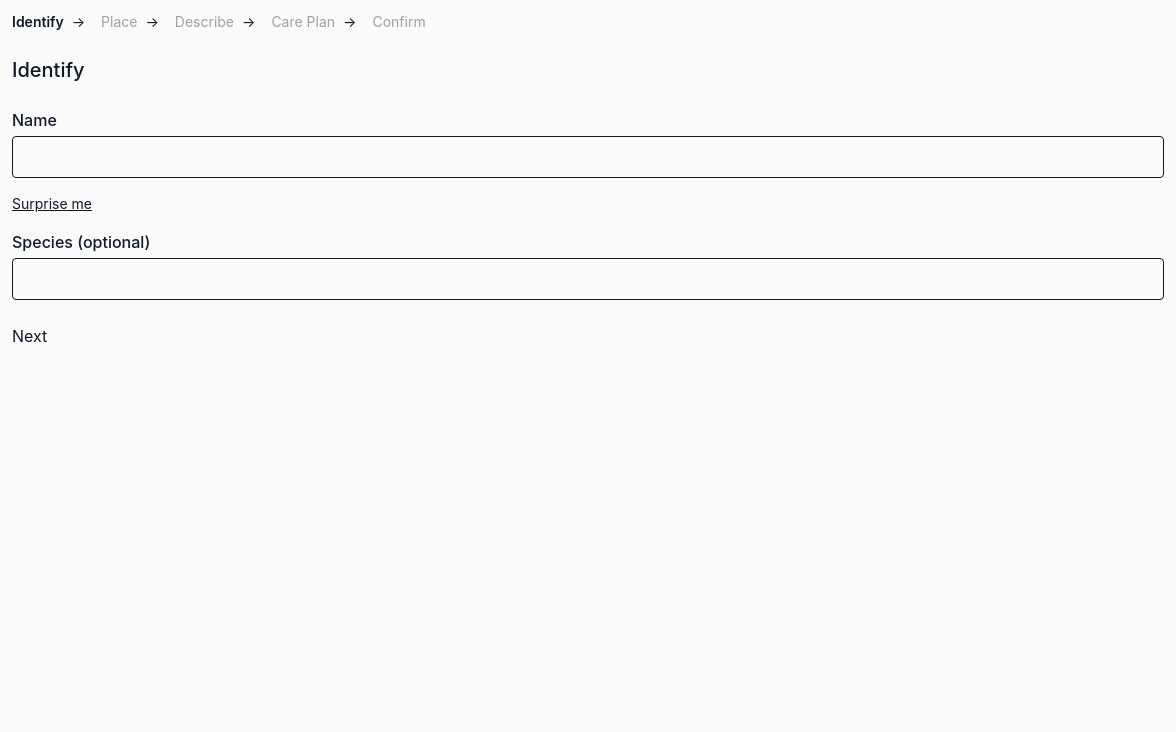
Test: AddPlantForm › shows errors for required fields
Step 1. Click the button "Next" → [30, 336], box [12,324,47,348]
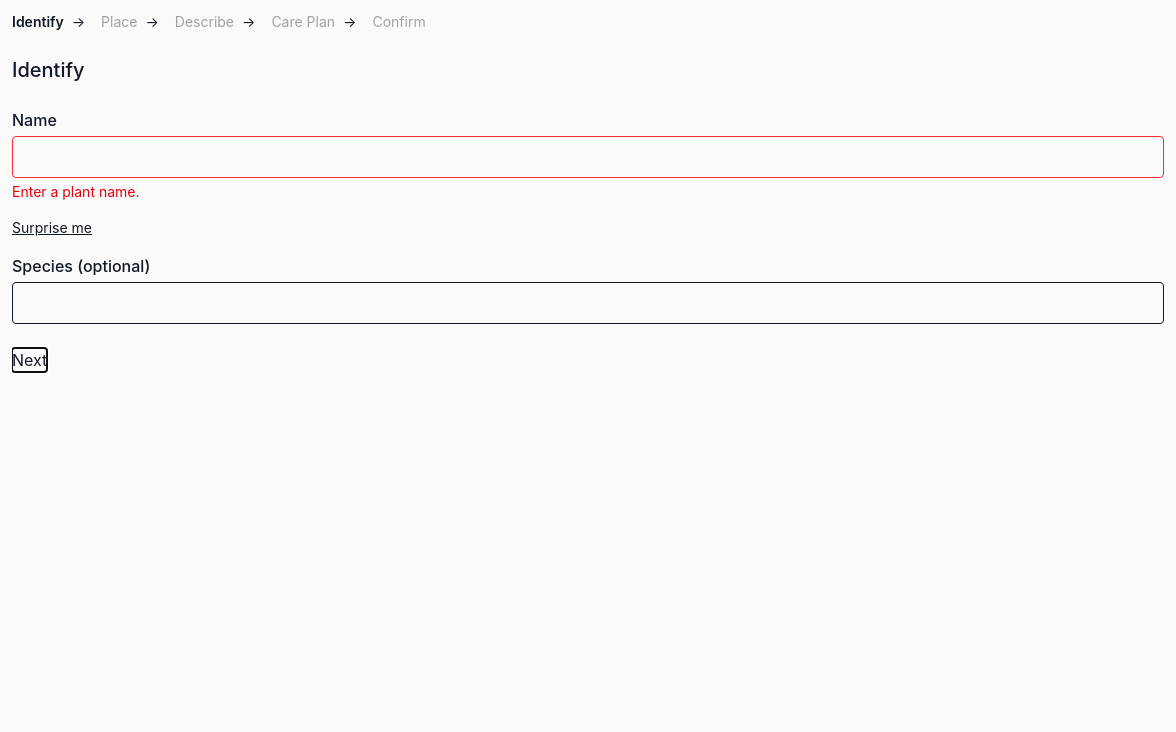
Result: the text "Enter a plant name." is shown at [12,183,140,200]
Step 2. Type "Fern" into the field labelled "Name Enter a plant name." → [588, 157], box [12,136,1164,178]
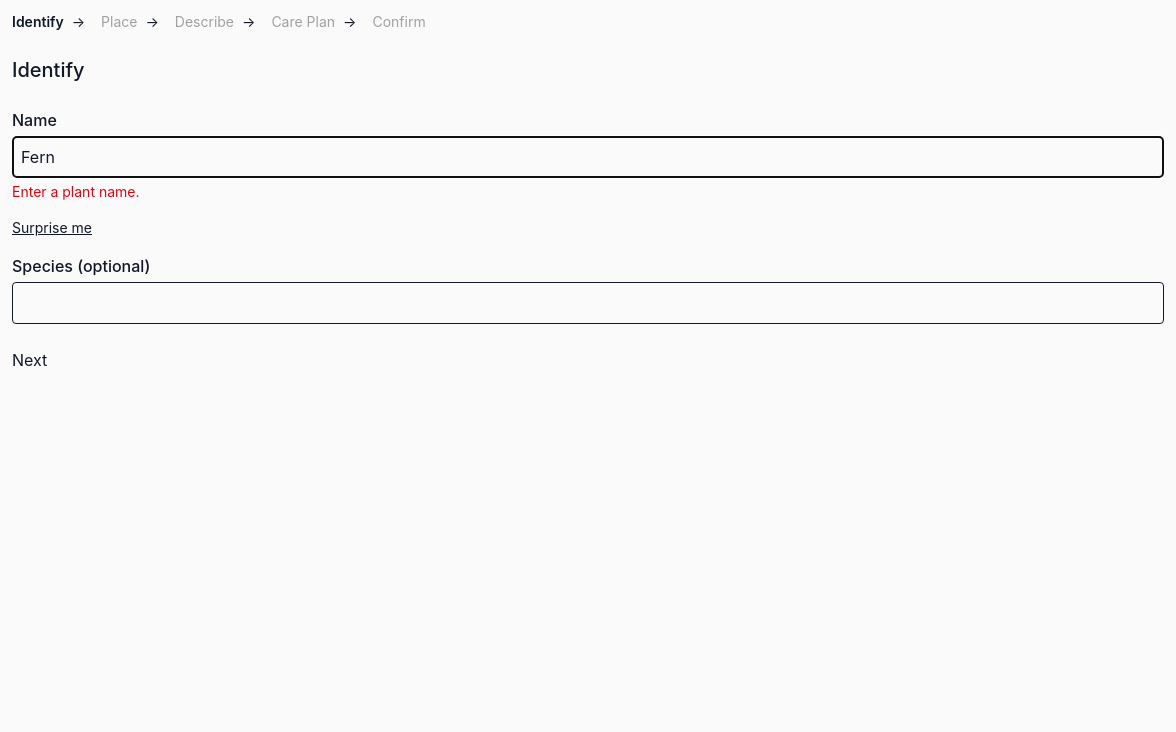
Step 3. Click the button "Next" → [30, 360], box [12,348,47,372]
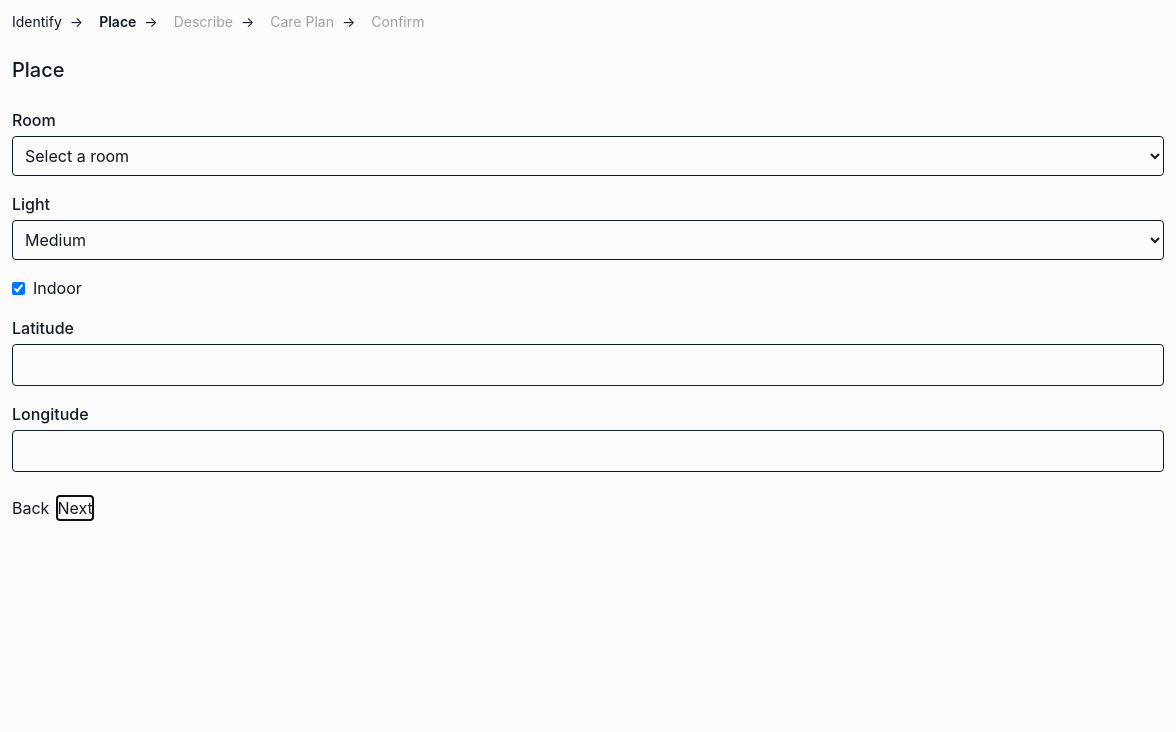
Step 4. Click the button "Next" → [75, 508], box [57,496,93,520]
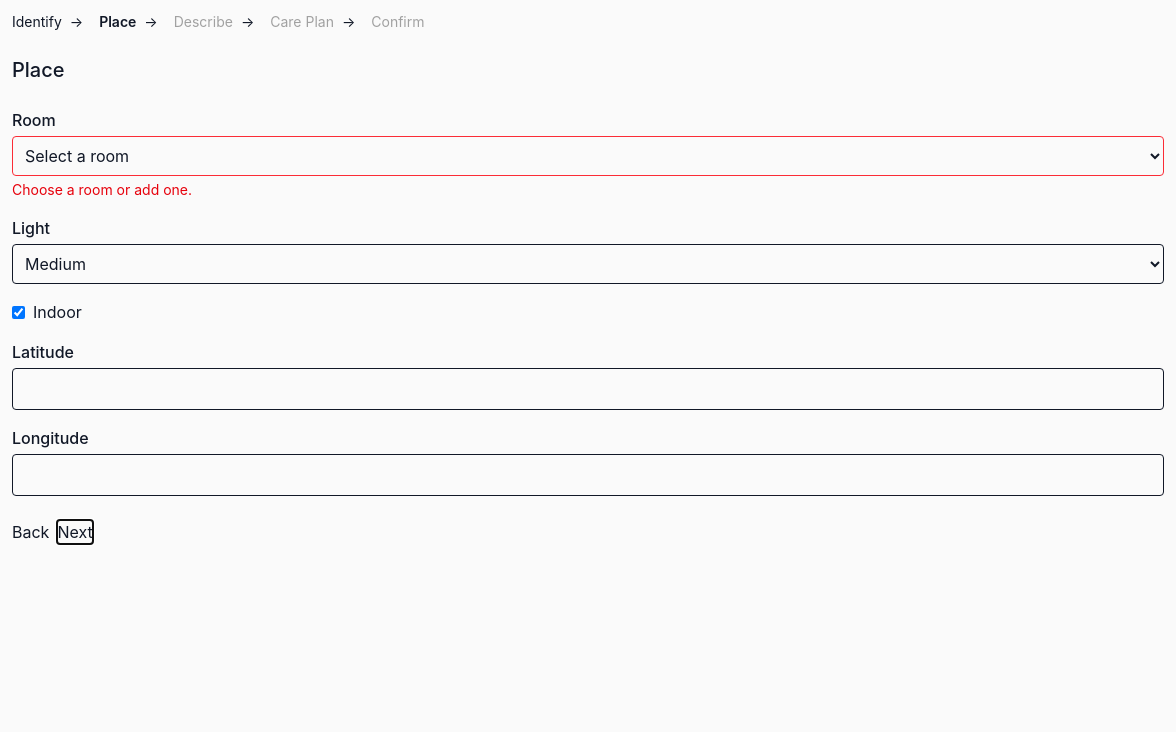
Result: the text "Choose a room or add one." is shown at [12,181,192,198]
